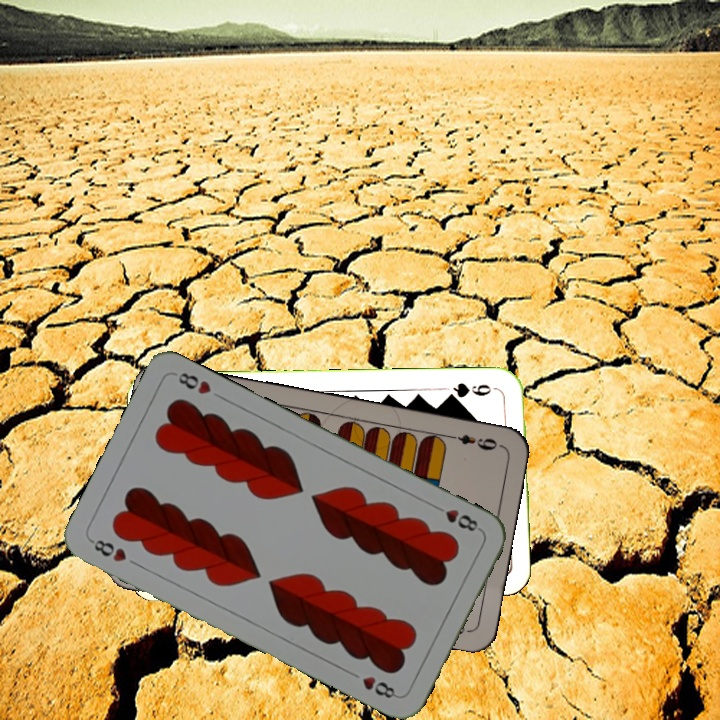E9: (444, 430, 503, 453)
G9: (442, 378, 501, 402)
H8: (429, 501, 484, 534), (86, 535, 130, 565)
